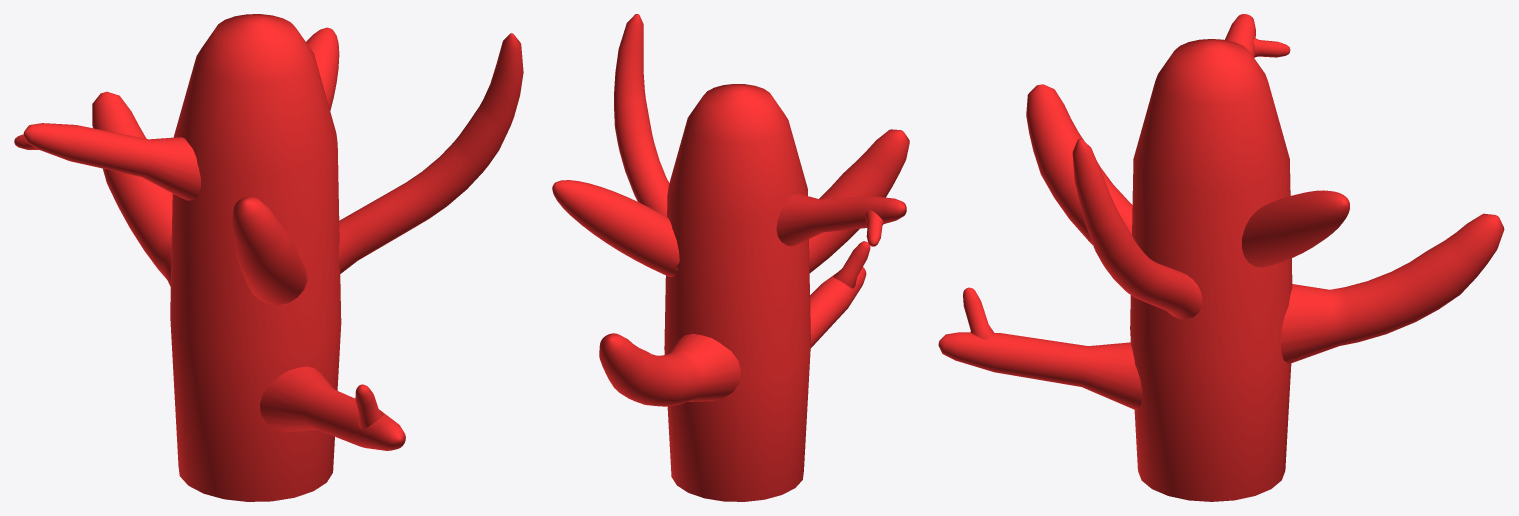
The model's file is SM_Coral_001.fbx.
3 renders of one model, left to right at view 1: azimuth 30°, elevation 25°; view 2: azimuth 150°, elevation 25°; view 3: azimuth 270°, elevation 25°, orthographic. The views are drawn at different scales.
Parts seen in each view (by area): view 1: pCylinder9; view 2: pCylinder9; view 3: pCylinder9.
Boxes of the visible parts, x1=… form: pCylinder9: x1=14, y1=14, x2=523, y2=501; pCylinder9: x1=552, y1=14, x2=909, y2=501; pCylinder9: x1=938, y1=14, x2=1504, y2=501.
Bounding box in the file's own units: 272 × 281 × 339.
1 material, 1 textured.
